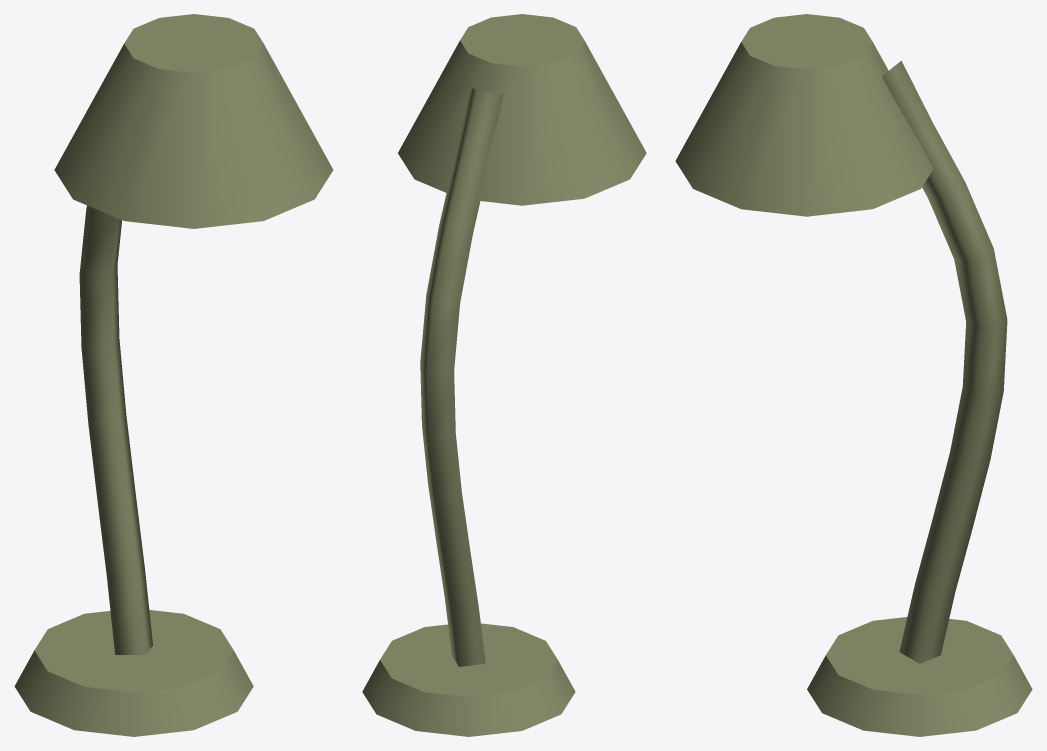
File: study_ref_task_lamp.glb
3 views of the same model, side by side, from view 1: azimuth 30°, elevation 25°; view 2: azimuth 150°, elevation 25°; view 3: azimuth 270°, elevation 25° (orthographic). The views are drawn at different scales.
Bounding box in the file's own units: 0.28 × 0.76 × 0.38.
